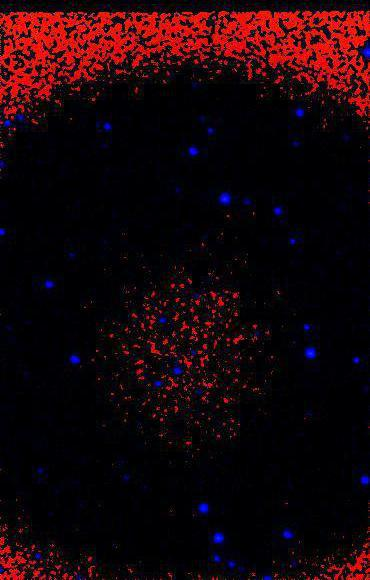star: (201, 405, 231, 435)
